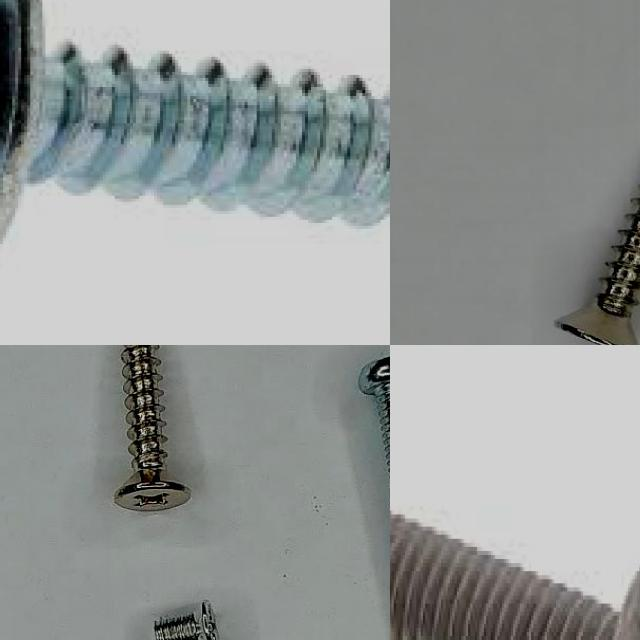Screw: (0, 0, 390, 252), (390, 513, 640, 640), (113, 345, 190, 511), (554, 197, 640, 345), (154, 601, 219, 640)
